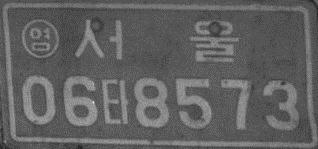0: (20, 72, 56, 126)
3: (262, 78, 299, 131)
5: (174, 77, 213, 130)
6: (61, 74, 98, 128)
7: (219, 77, 252, 130)
8: (132, 76, 170, 128)
서울_D: (74, 17, 240, 64)
영: (21, 18, 60, 59)
타: (100, 78, 130, 126)
